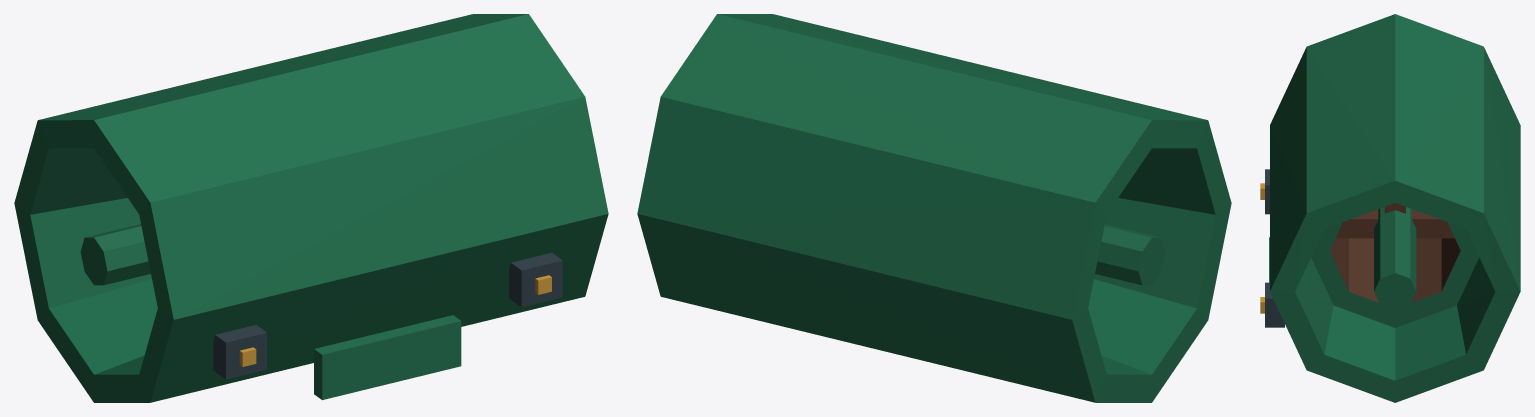
Rendered from quay-cart-mint.glb.
The picture shows the model from 3 angles, left to right: view 1: azimuth 30°, elevation 25°; view 2: azimuth 150°, elevation 25°; view 3: azimuth 270°, elevation 25°; orthographic projection. The views are drawn at different scales.
Parts seen in each view (by area): view 1: quay-cart-mint; view 2: quay-cart-mint; view 3: quay-cart-mint.
Part boxes in pixels (x1,y1,x2,y2): quay-cart-mint: [14, 14, 608, 402]; quay-cart-mint: [637, 14, 1231, 402]; quay-cart-mint: [1260, 14, 1520, 402].
Bounding box in the file's own units: 1.48 × 0.92 × 0.9757.
